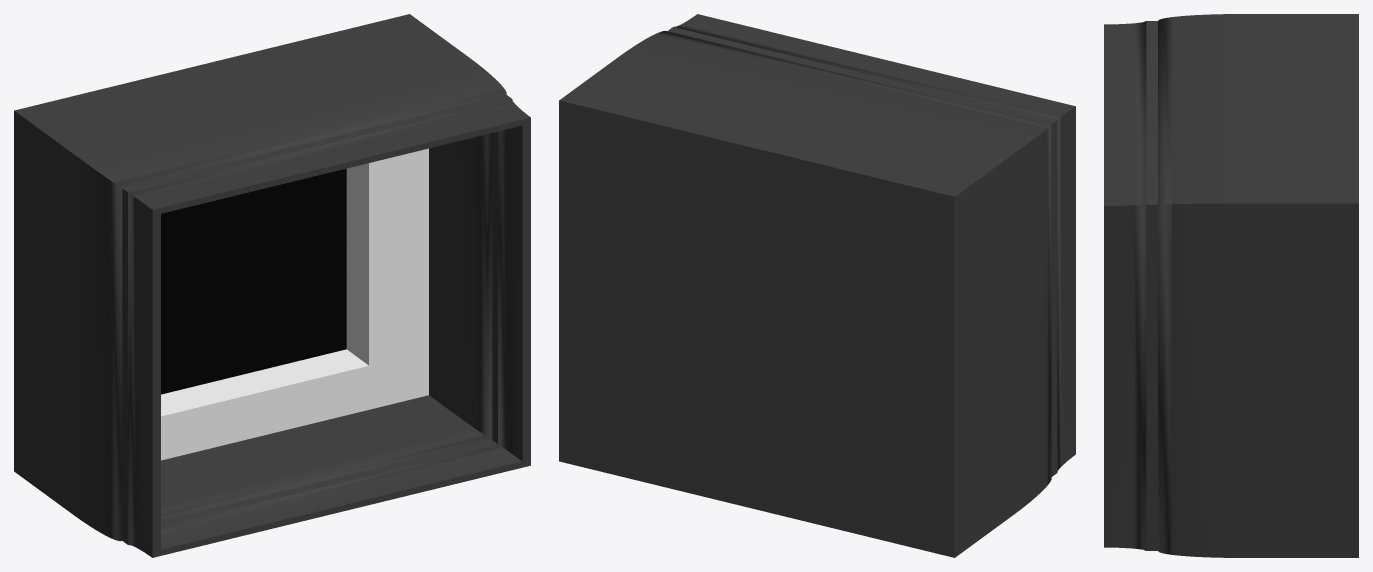
The model's file is Frame11.glb.
3 renders of one model, left to right at view 1: azimuth 30°, elevation 25°; view 2: azimuth 150°, elevation 25°; view 3: azimuth 270°, elevation 25°, orthographic.
Visible parts, largest first — view 1: Empty, A_PaintingMesh; view 2: Empty; view 3: Empty.
Boxes of the visible parts, box(x1,y1,x2,y2) form: Empty: box(14, 14, 530, 557); A_PaintingMesh: box(161, 168, 346, 394); Empty: box(559, 14, 1075, 557); Empty: box(1104, 14, 1358, 557).
Size of the model in its own units: 1.76 by 1.54 by 1.
4 materials, 1 textured.
